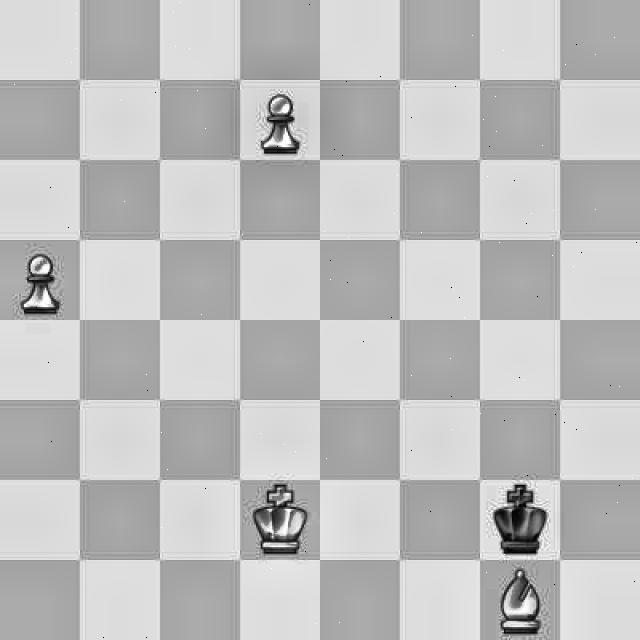black king: (482, 477, 552, 549)
white bishop: (491, 569, 552, 632)
white king: (252, 479, 310, 557)
white pawn: (8, 246, 66, 318), (248, 91, 310, 157)
